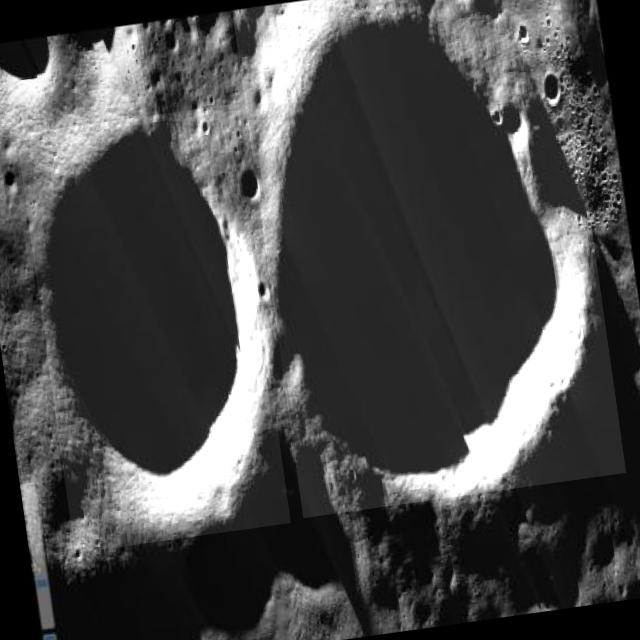crater: (232, 0, 626, 518), (16, 104, 291, 553), (266, 329, 310, 392), (238, 164, 264, 202), (543, 68, 566, 105), (2, 164, 22, 198)
